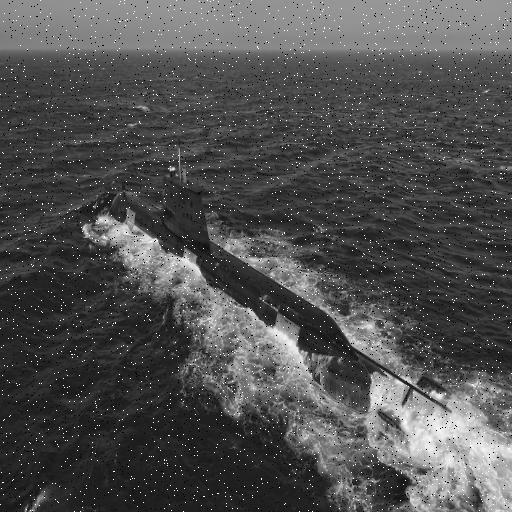submarine: (110, 147, 446, 456)
